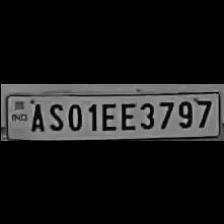0: (64, 100, 84, 130)
1: (83, 101, 99, 131)
3: (136, 99, 154, 129)
7: (155, 97, 173, 128), (194, 96, 212, 127)
9: (174, 96, 192, 128)
A: (26, 99, 44, 130)
E: (117, 98, 135, 130), (98, 100, 116, 130)
S: (45, 99, 65, 130)
